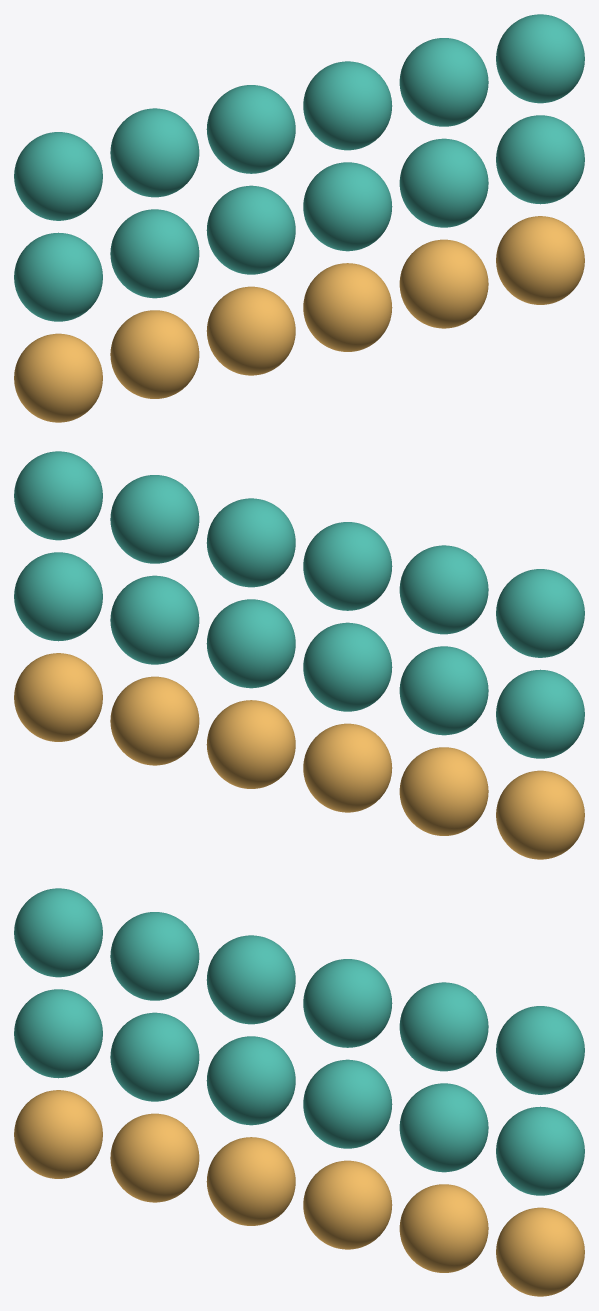
The model's file is pbr_studio.gltf.
3 views of the same model, one above another, from view 1: azimuth 30°, elevation 25°; view 2: azimuth 150°, elevation 25°; view 3: azimuth 330°, elevation 25° (orthographic).
Bounding box in the file's own units: 14.5 × 7 × 2.
